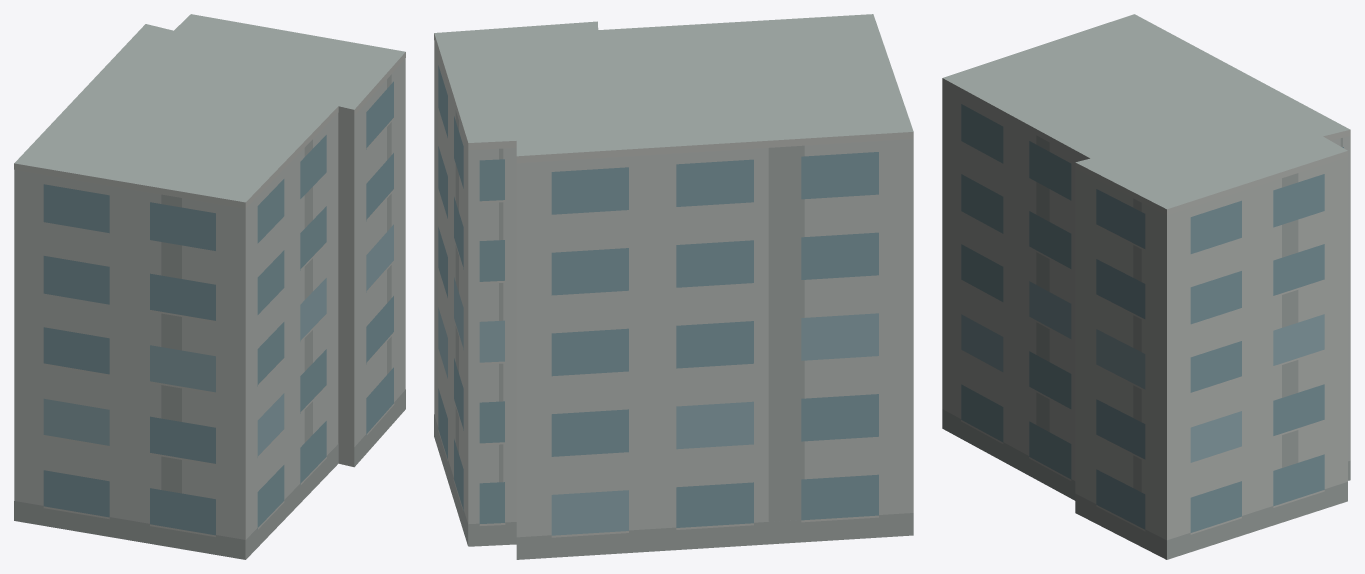
The model's file is survey-upis-33040791.glb.
The picture shows the model from 3 angles, left to right: view 1: azimuth 30°, elevation 25°; view 2: azimuth 150°, elevation 25°; view 3: azimuth 270°, elevation 25°; orthographic projection. The views are drawn at different scales.
Parts seen in each view (by area): view 1: survey-upis-33040791.tmp; view 2: survey-upis-33040791.tmp; view 3: survey-upis-33040791.tmp.
Part boxes in pixels (x1=…): survey-upis-33040791.tmp: x1=14, y1=14, x2=405, y2=559; survey-upis-33040791.tmp: x1=434, y1=14, x2=913, y2=559; survey-upis-33040791.tmp: x1=942, y1=14, x2=1350, y2=559.
Bounding box in the file's own units: 16.5 × 13.8 × 14.57.
